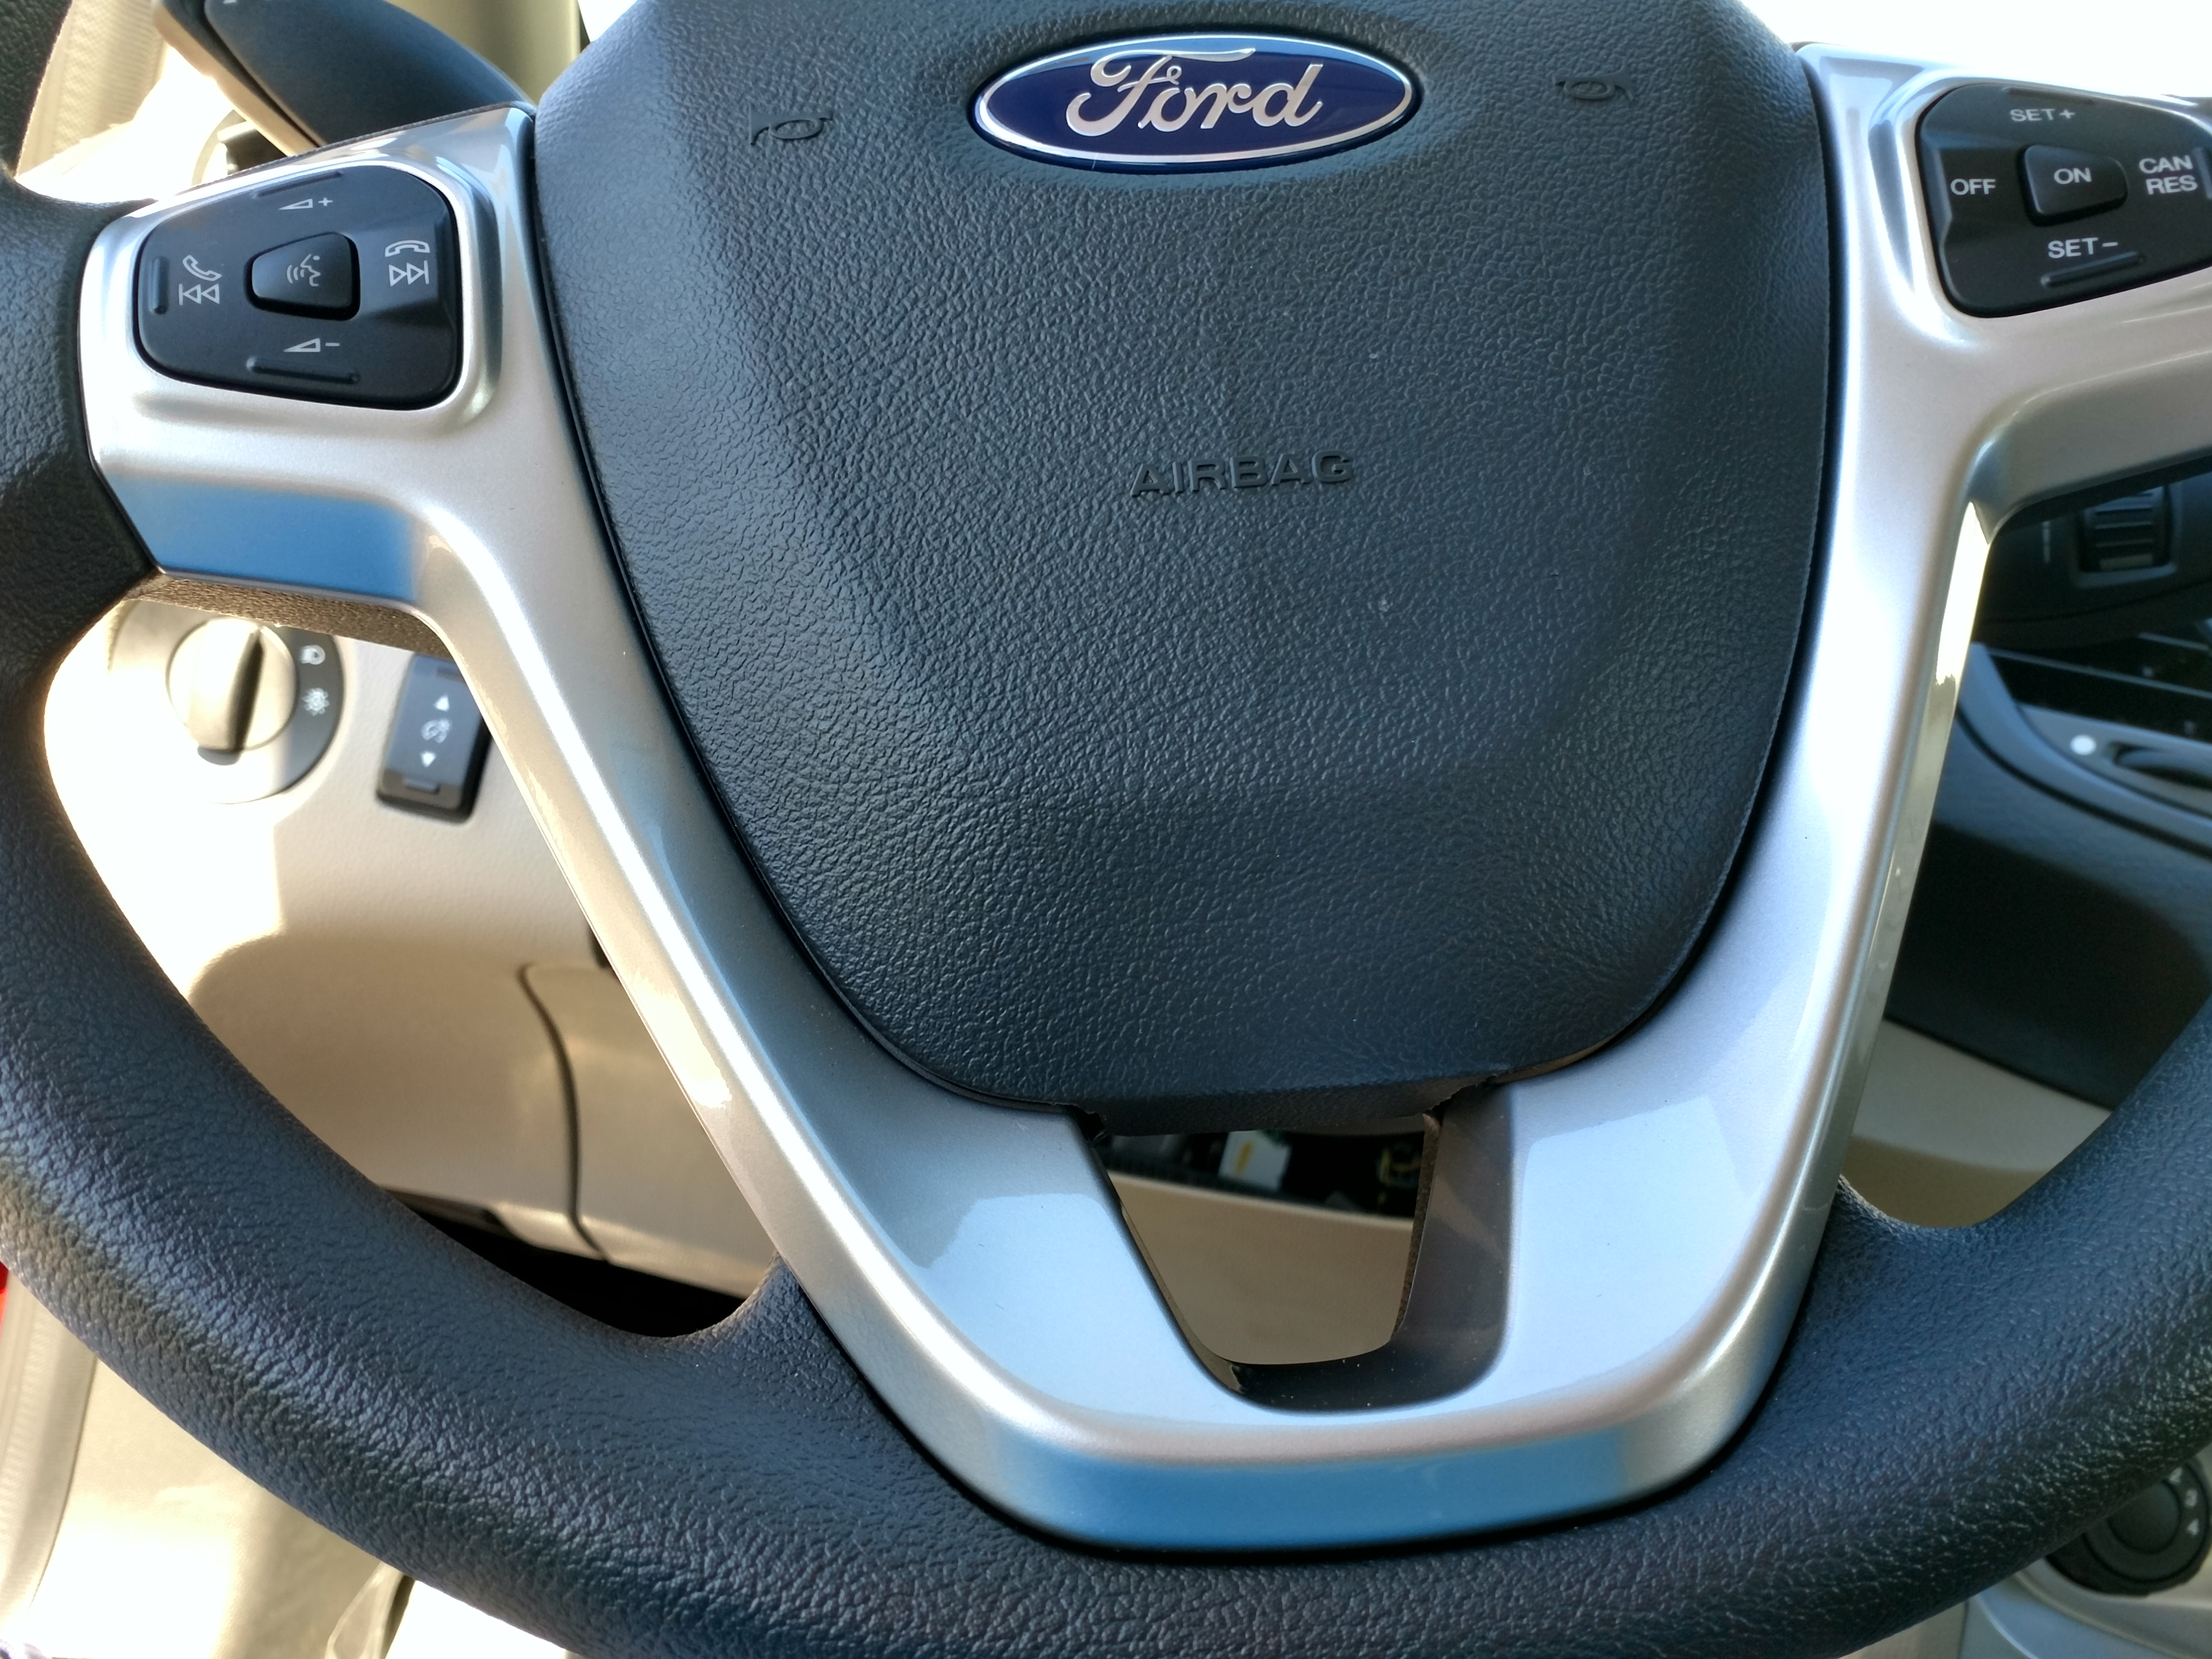Ford: (967, 14, 1437, 186)
